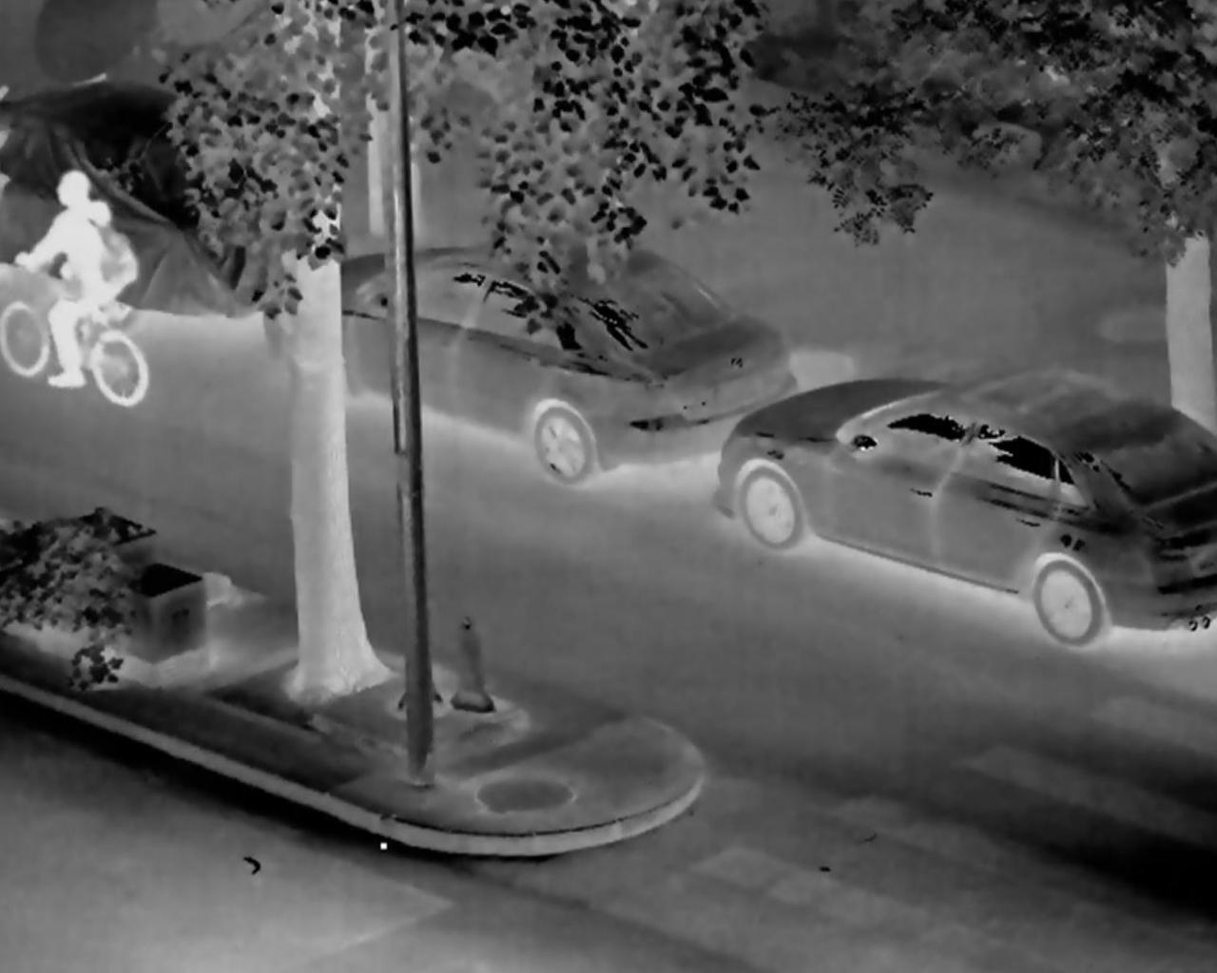person: (31, 176, 155, 393)
